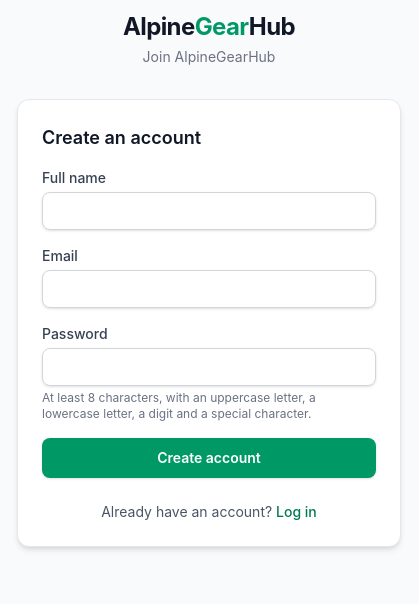
Test case: RegisterPage › shows a server error and stays on the page when registration fails
Type "Jane Climber" into the field labelled "Full name" at (209, 211), box top-left (42, 192), bottom-right (376, 230)
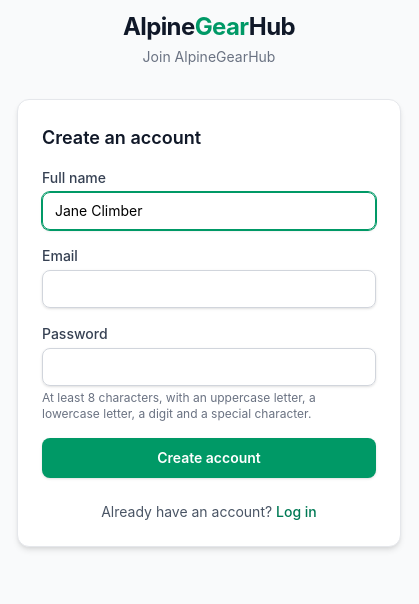
Type "jane@example.com" into the field labelled "Email" at (209, 289), box top-left (42, 270), bottom-right (376, 308)
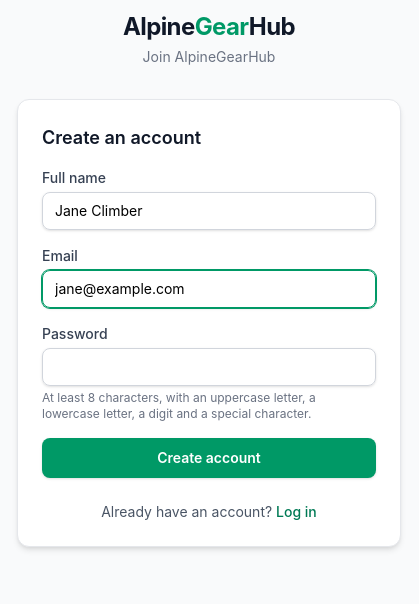
Type "Password1!" into the password field labelled "Password" at (209, 367), box top-left (42, 348), bottom-right (376, 386)
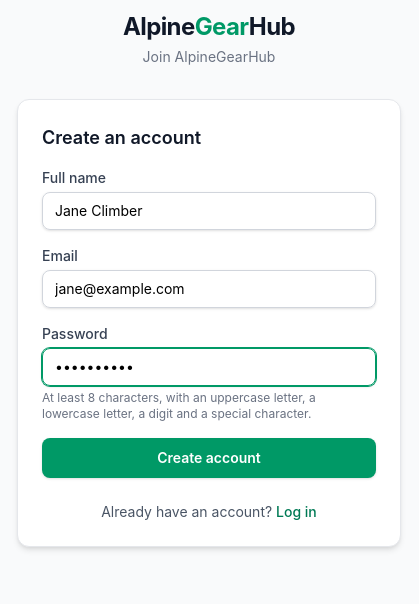
Click the button "Create account" at (209, 458), box top-left (42, 438), bottom-right (376, 478)
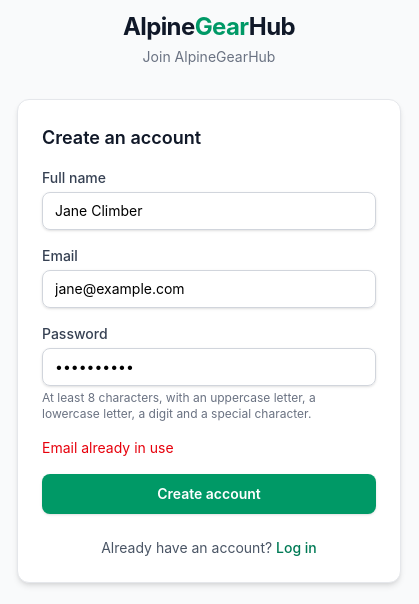
Expected: the text "Email already in use" is shown, top-left (42, 439), bottom-right (174, 456)
